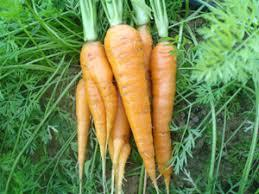Organic: (4, 1, 259, 191)
